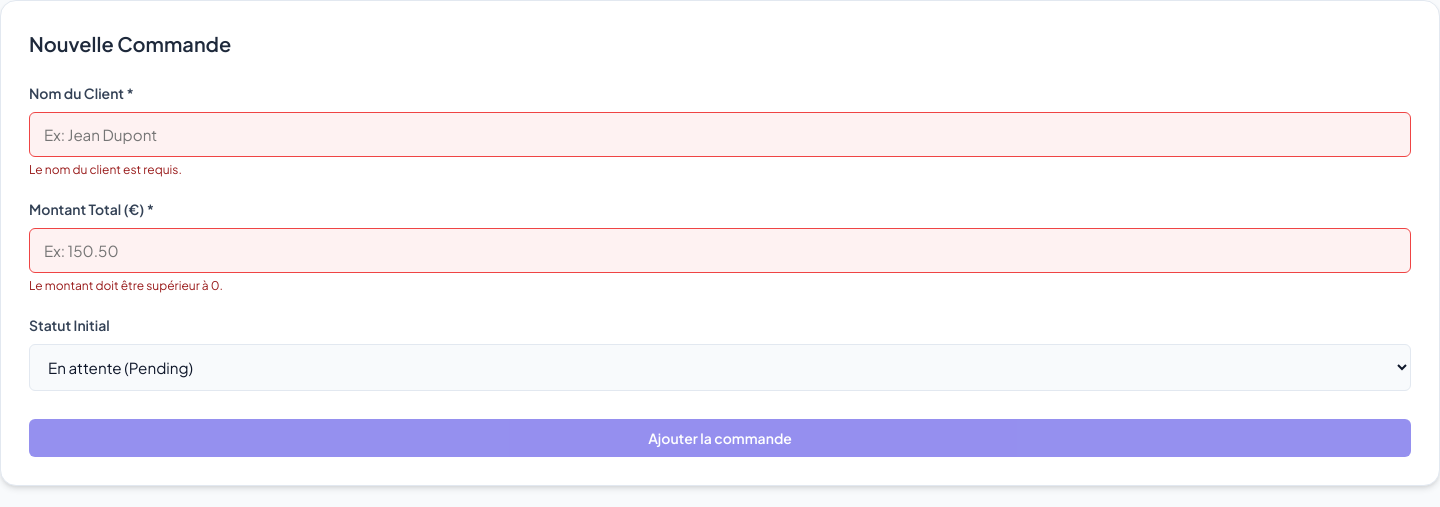
it: OrderForm Component › should enable submit button when valid clientName and totalAmount are provided
Type "Jean Dupont" into the field labelled "Nom du Client *" at x=720, y=134, box [29,112,1411,157]
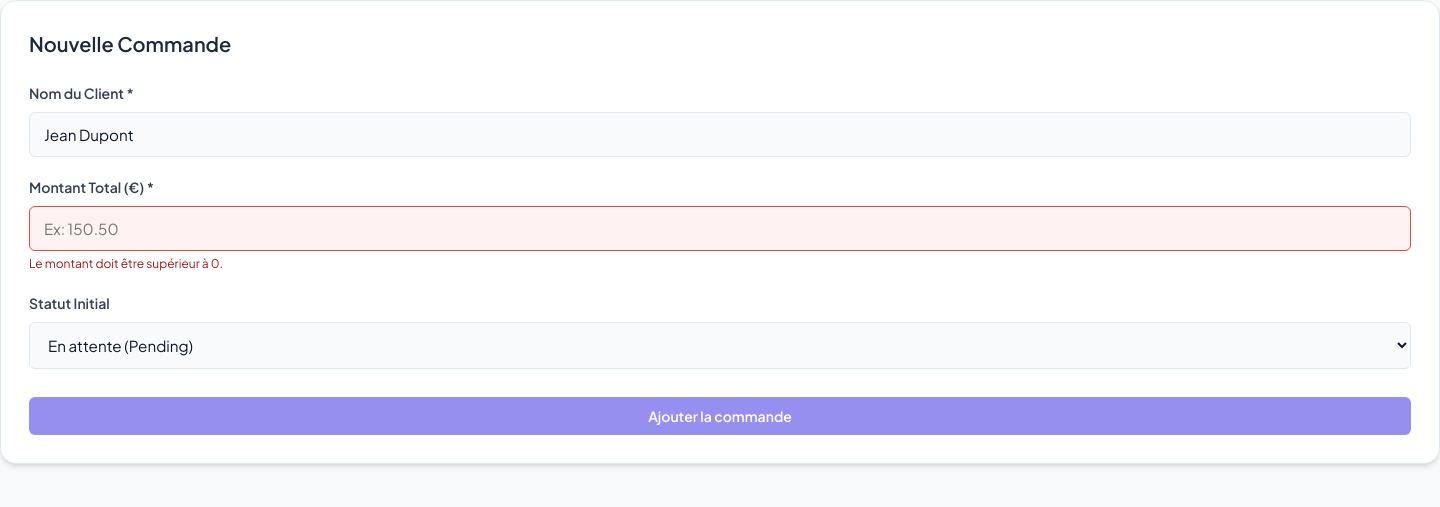
Type "150.50" into the number field labelled "Montant Total (€) *" at x=720, y=228, box [29,206,1411,251]
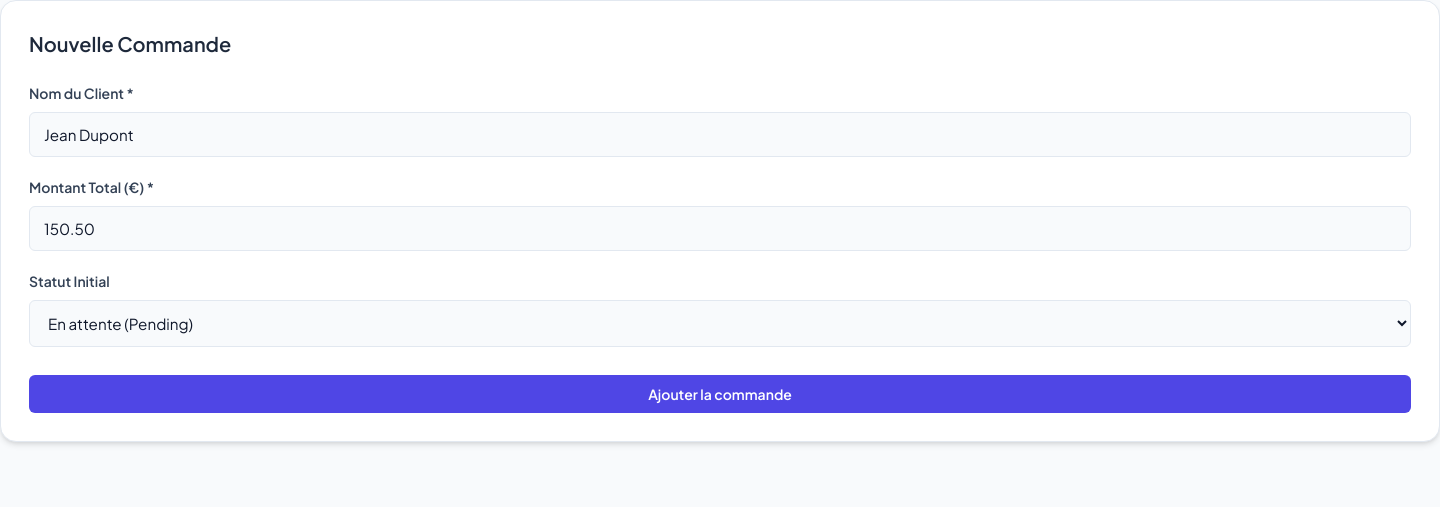
Expected: the button "Ajouter la commande" is enabled, [29,375,1411,413]
